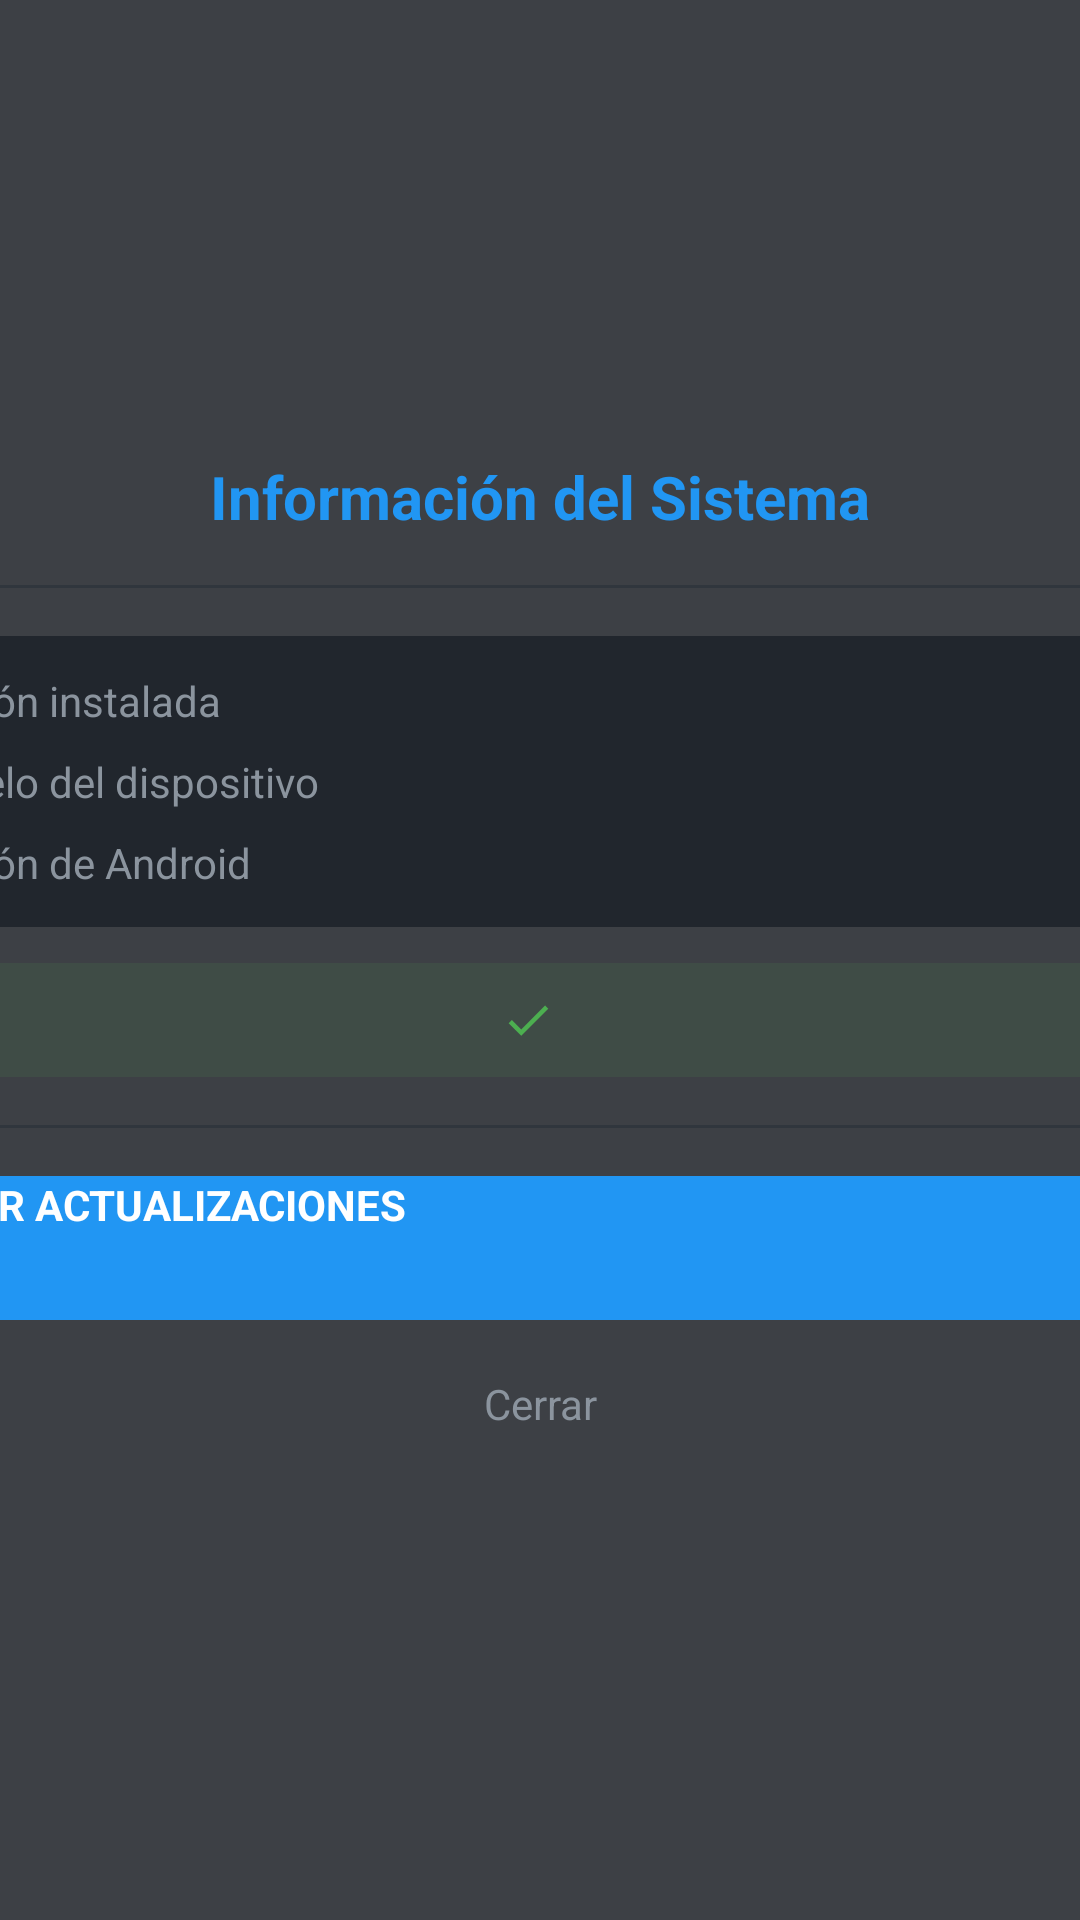

Icons on this 1080w x 1920h Android screen, each with the point to tap as (x,y):
check: (528,1021)
